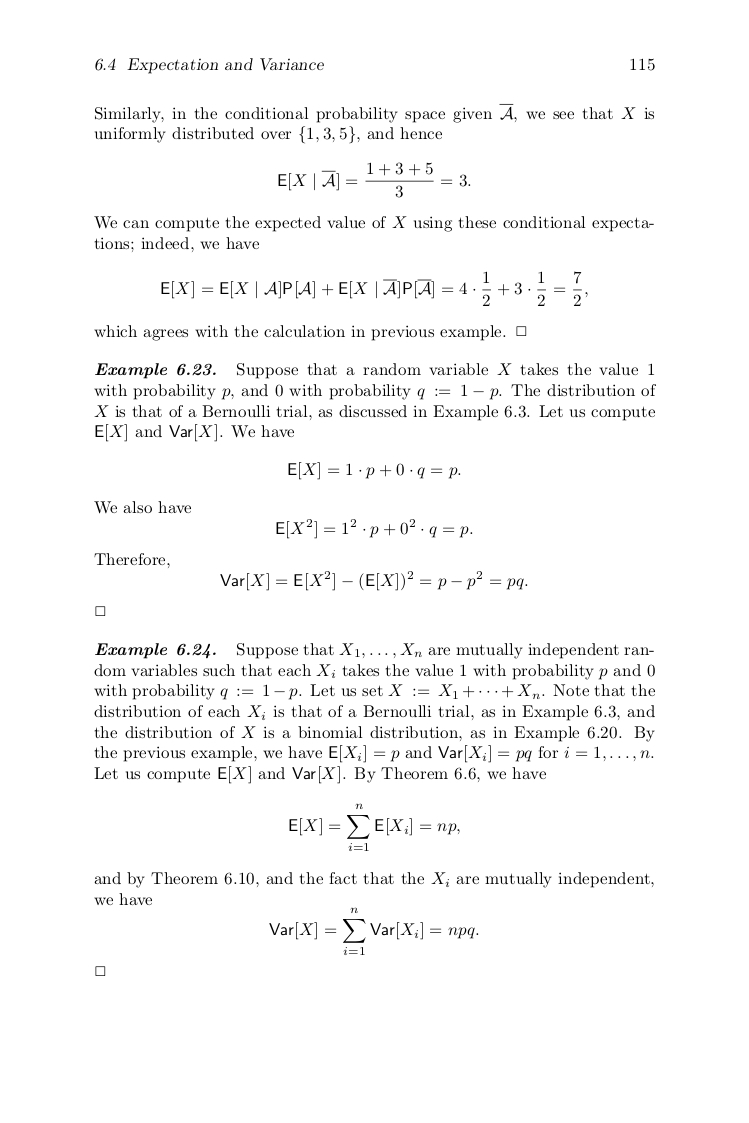formula: (161, 270, 587, 306), (269, 907, 478, 954), (289, 803, 459, 850), (278, 161, 470, 198), (220, 570, 527, 591), (276, 518, 472, 539), (288, 461, 460, 480)
